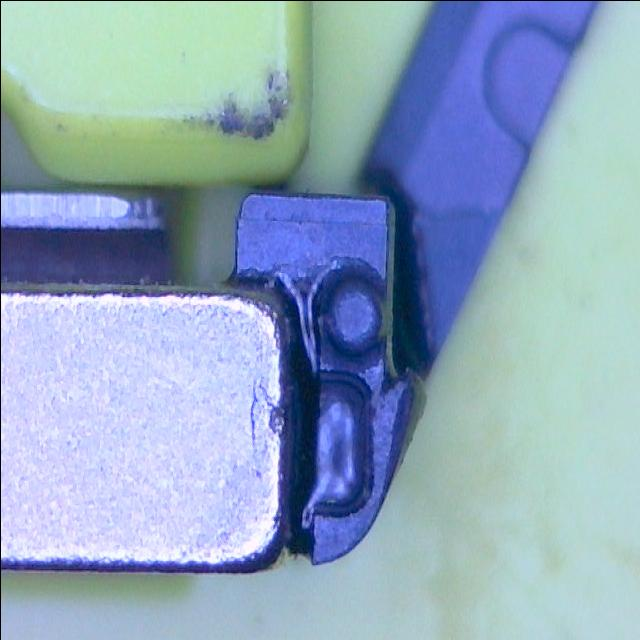over: (301, 368, 375, 516)
